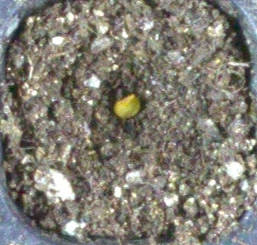pepper seed: (41, 32, 183, 153)
